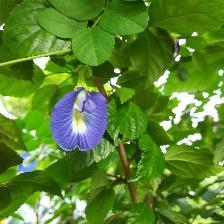shankupushpam: (49, 84, 113, 157)
